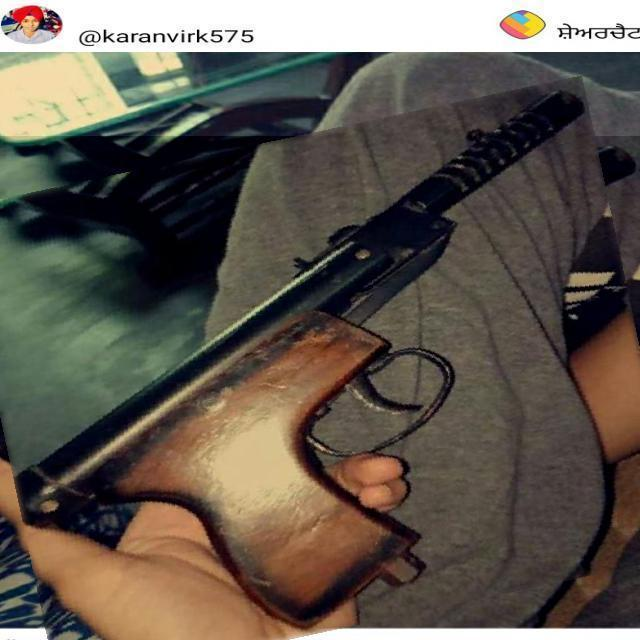rifle: (36, 67, 595, 608), (2, 4, 57, 43), (20, 15, 39, 37)
